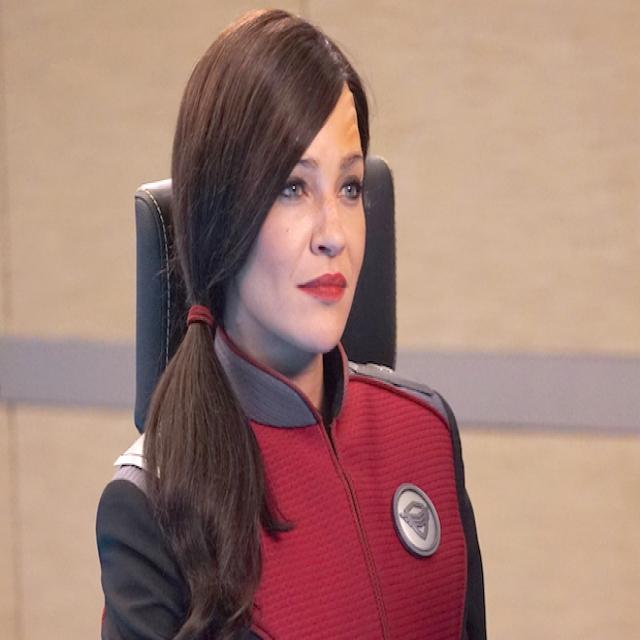human: (86, 8, 493, 640)
